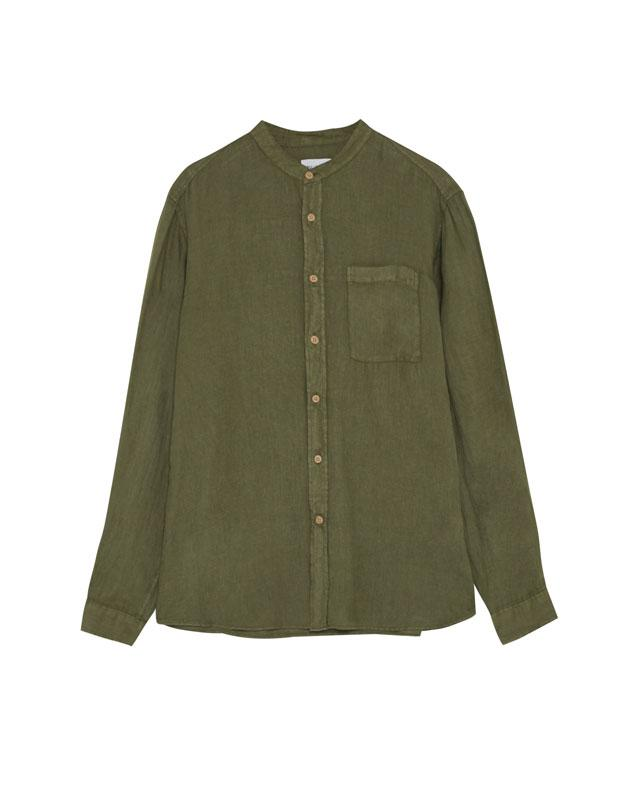teeshirt: (70, 114, 564, 656)
